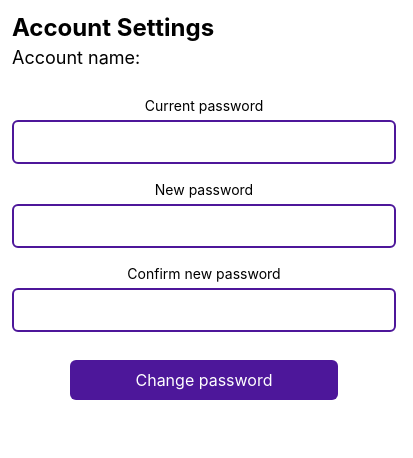
Test: SettingsPage password change › requires a logged-in user
Type "oldpassword" into the password field labelled "Current password".
click(204, 142); type("oldpassword")  # box left=12, top=120, right=396, bottom=164
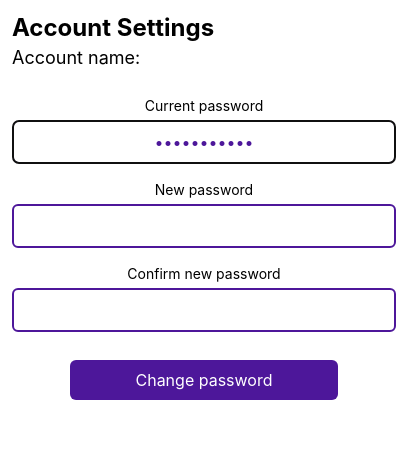
Type "newpassword" into the password field labelled "New password".
click(204, 226); type("newpassword")  # box left=12, top=204, right=396, bottom=248
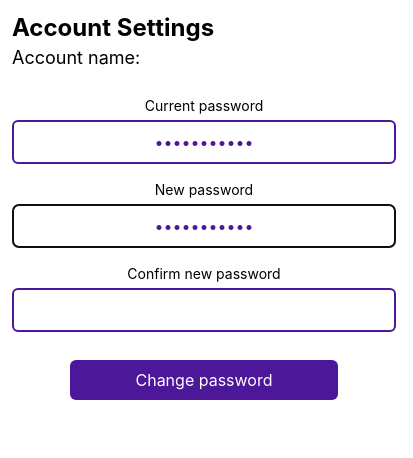
Type "newpassword" into the password field labelled "Confirm new password".
click(204, 310); type("newpassword")  # box left=12, top=288, right=396, bottom=332
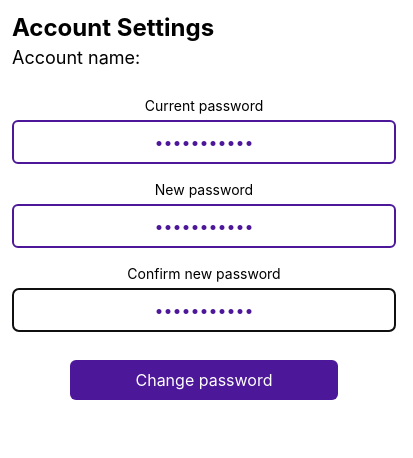
Click the button "Change password".
click(204, 380)  # box left=70, top=360, right=338, bottom=400
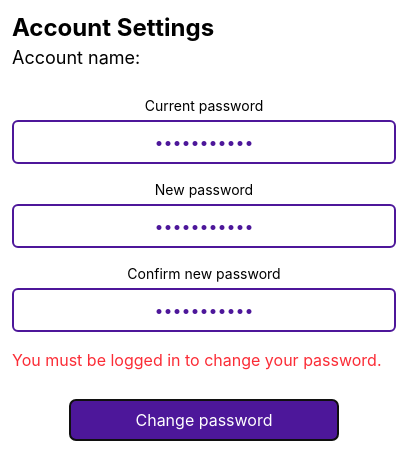
Expected: the message shows "must be logged in", left=12, top=350, right=382, bottom=370
